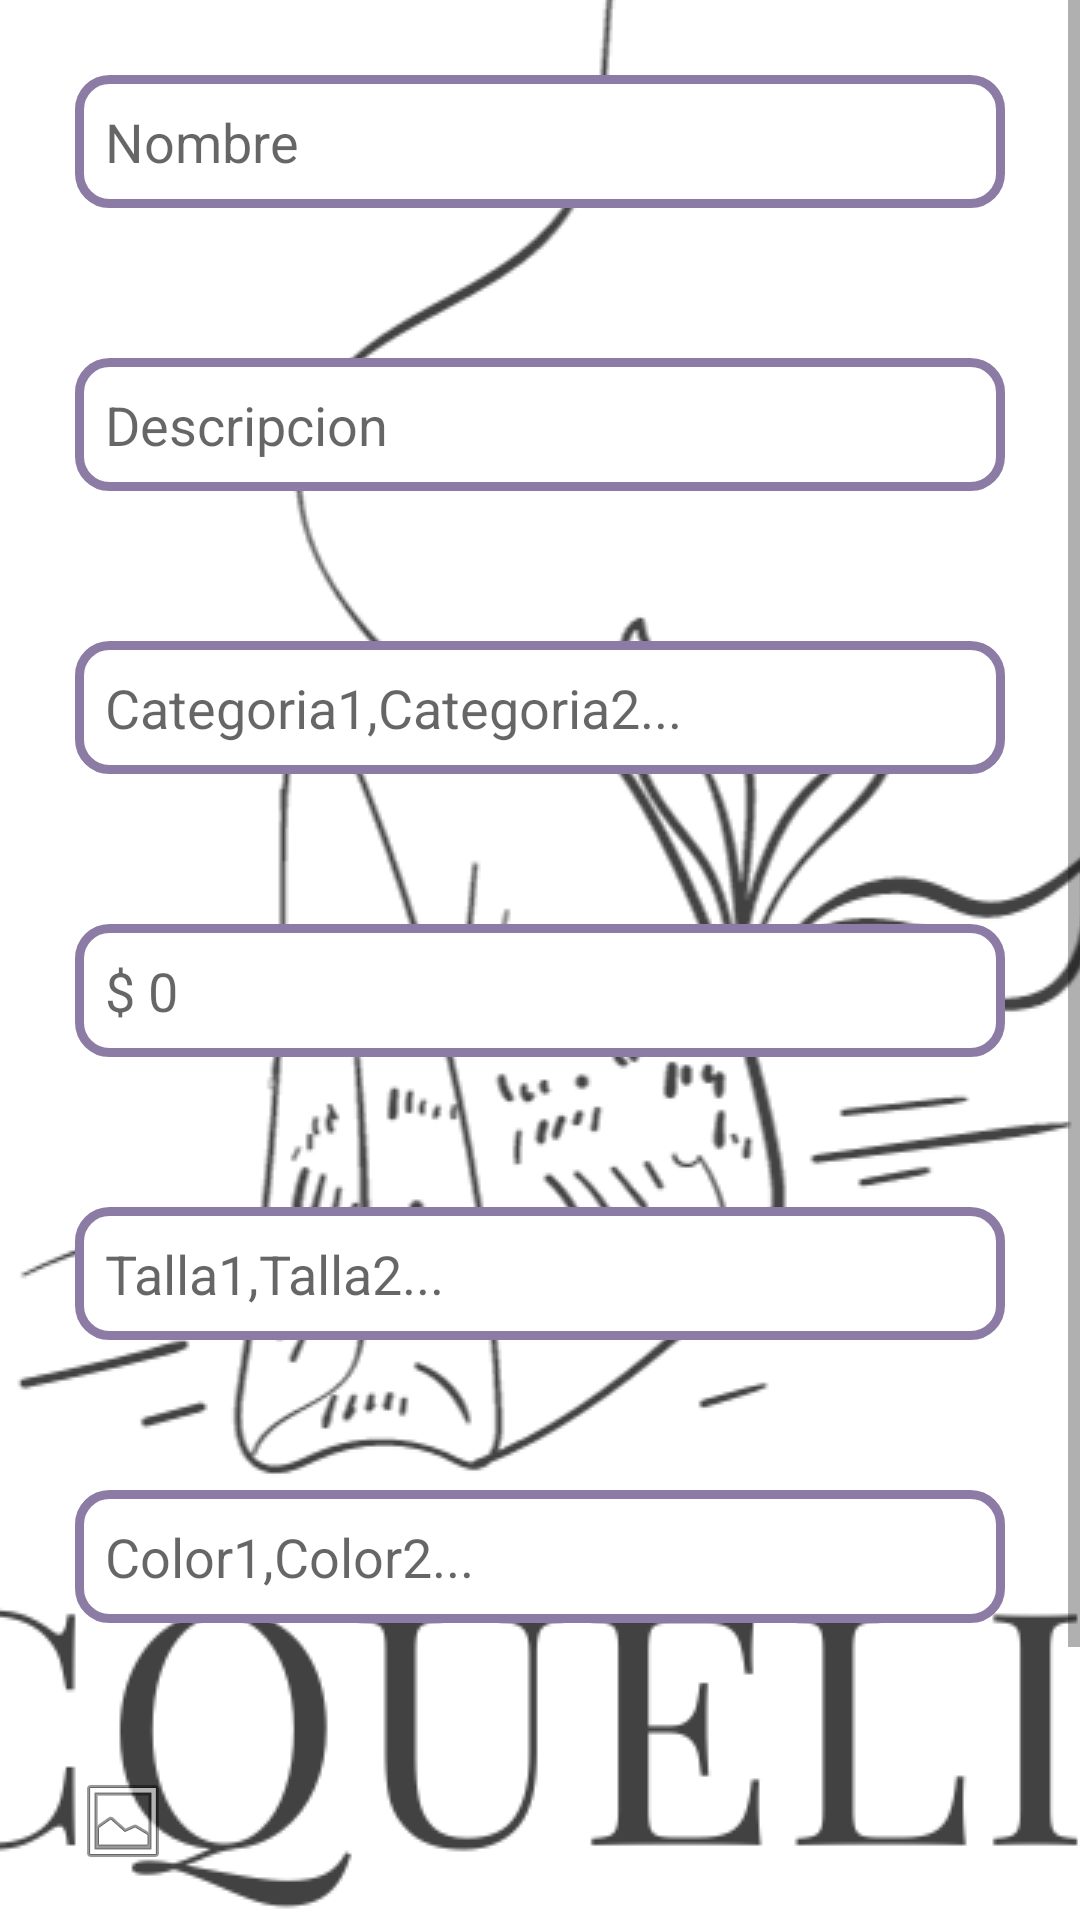

Named icons in this screenshot (1080w x 1920h) and their centers, (x=x, y=y):
gallery: (x=123, y=1821)
